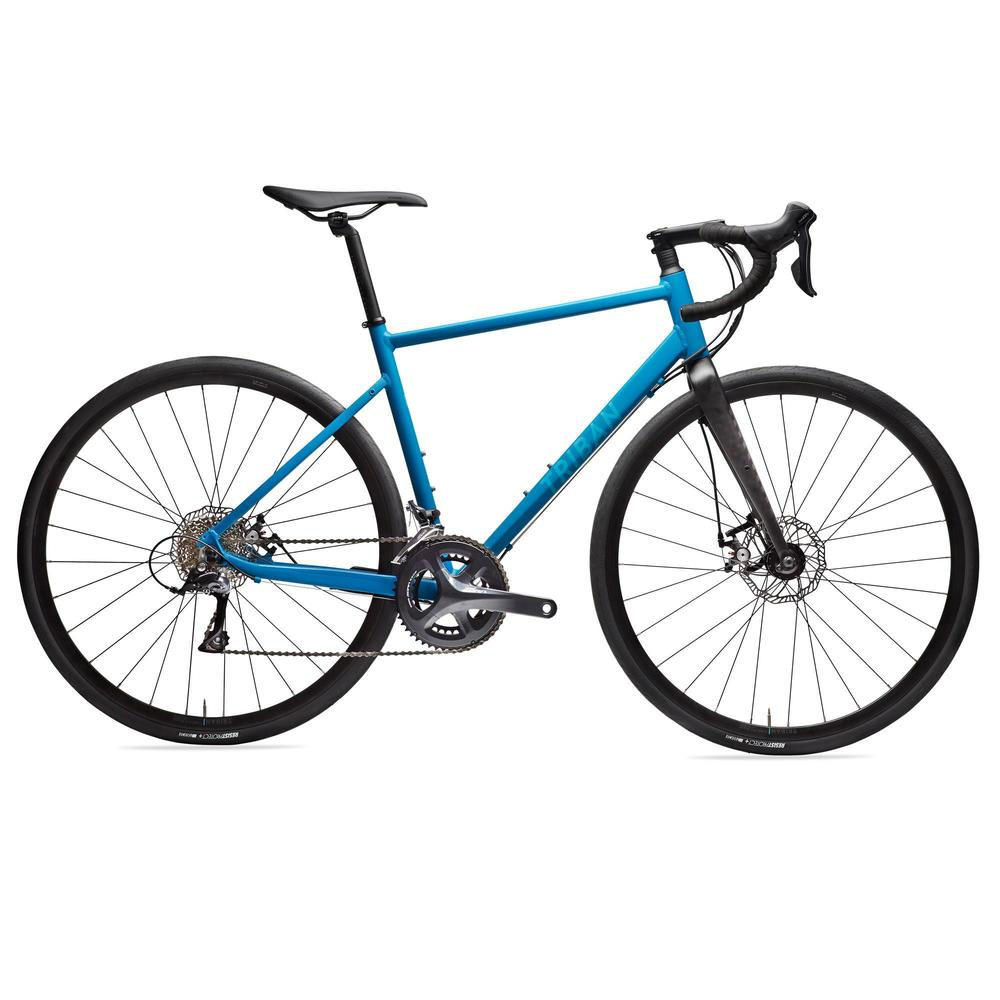RoadBike: (12, 185, 1000, 763)
